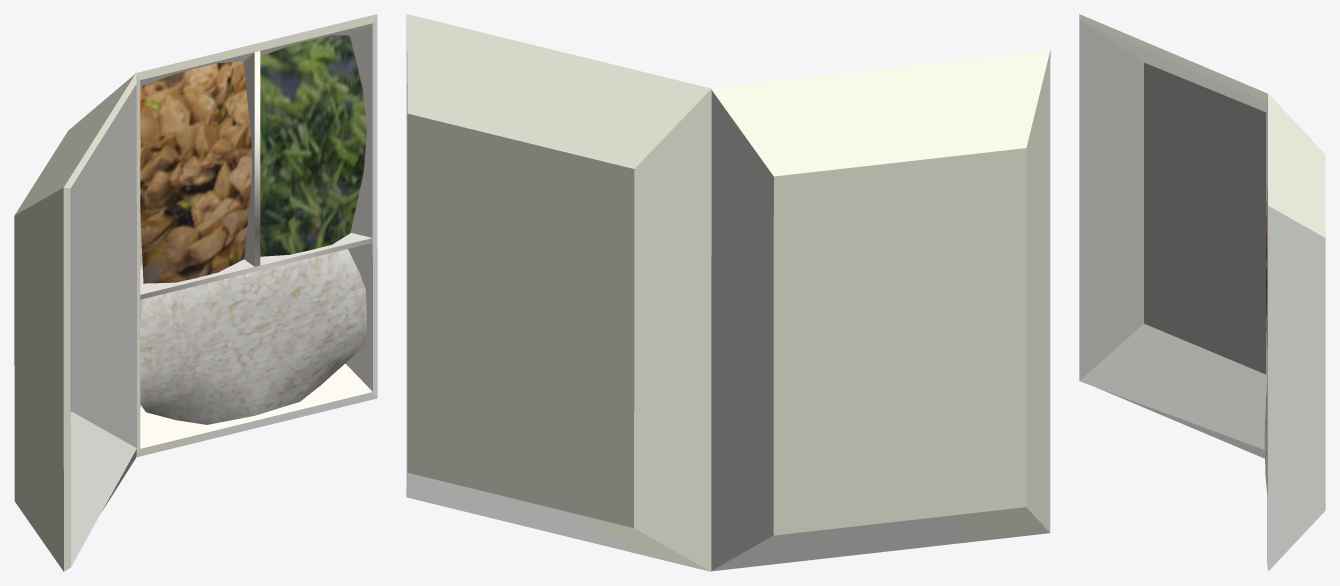
The model's file is ricebox.fbx.
3 views of the same model, side by side, from view 1: azimuth 30°, elevation 25°; view 2: azimuth 150°, elevation 25°; view 3: azimuth 270°, elevation 25° (orthographic). The views are drawn at different scales.
Parts seen in each view (by area): view 1: thisthis 3/3, rice, thisthis1, thisthis2; view 2: thisthis 3/3; view 3: thisthis 3/3.
Boxes of the visible parts, left/top/right/bottom form: thisthis 3/3: left=14, top=14, right=377, bottom=571; rice: left=140, top=249, right=366, bottom=424; thisthis1: left=140, top=61, right=251, bottom=283; thisthis2: left=260, top=35, right=366, bottom=256; thisthis 3/3: left=406, top=14, right=1050, bottom=571; thisthis 3/3: left=1079, top=14, right=1325, bottom=571.
Bounding box in the file's own units: 37.25 × 31.99 × 19.51.
